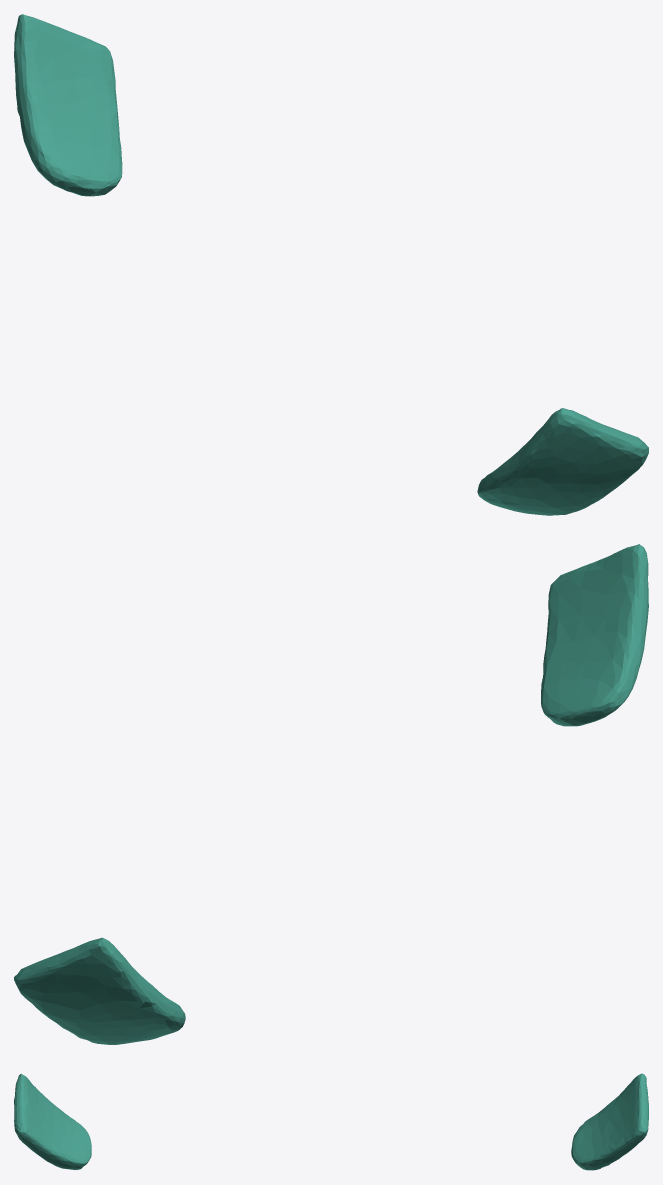
The picture shows the model from 3 angles, top to bottom: view 1: azimuth 30°, elevation 25°; view 2: azimuth 150°, elevation 25°; view 3: azimuth 270°, elevation 25°; orthographic projection. The views are drawn at different scales.
Parts seen in each view (by area): view 1: 654.obj; view 2: 654.obj; view 3: 654.obj.
Boxes of the visible parts, <box> form: 654.obj: <box>14,14,648,515</box>; 654.obj: <box>14,544,648,1044</box>; 654.obj: <box>14,1073,648,1170</box>.
Size of the model in its own units: 1047 by 1239 by 8217.
